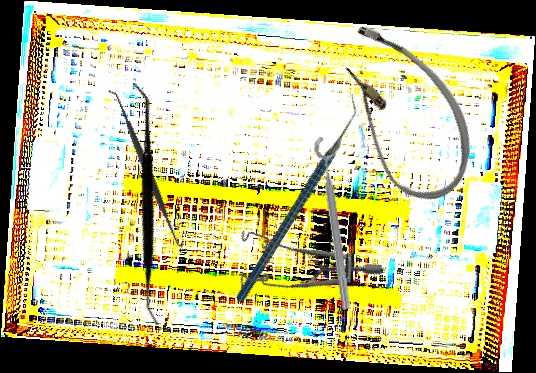Cannula: (303, 7, 500, 217)
Chopper: (182, 93, 411, 304)
Fixation Ring: (312, 134, 366, 311)
Spatula Surgical: (35, 81, 257, 327), (104, 85, 188, 252)
Speculum: (220, 184, 386, 328)
